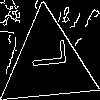L: (22, 38, 66, 70)
